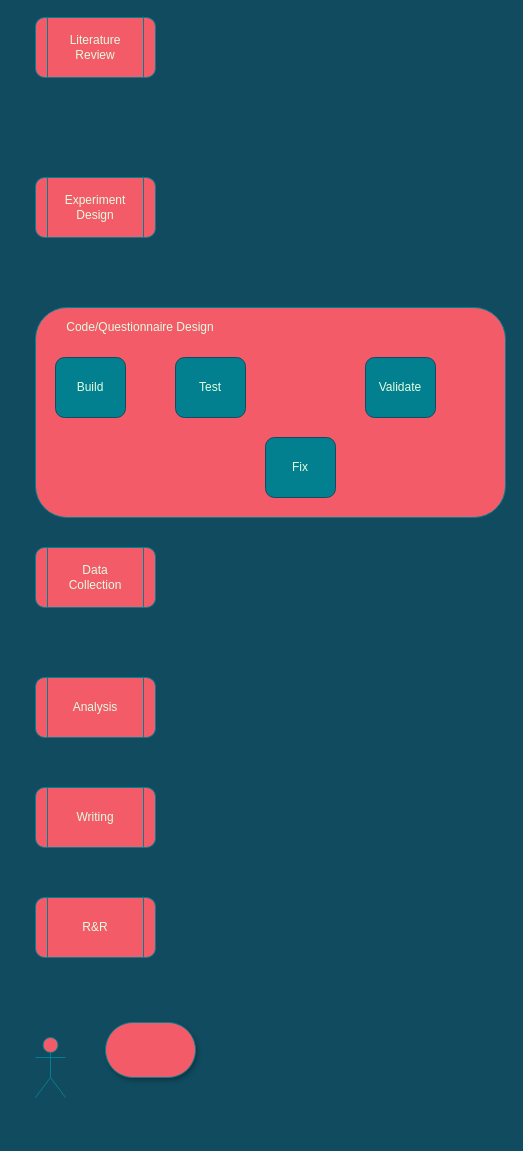
Some shapes in this 523 by 1151 pixel diagram are drawn without their labels. The shapes that lost their labels are listed below. From the top down, each one's centre as x and y in pixels, then its label:
(50,1067): Upskilled Lab Member
(151,1051): Publication
